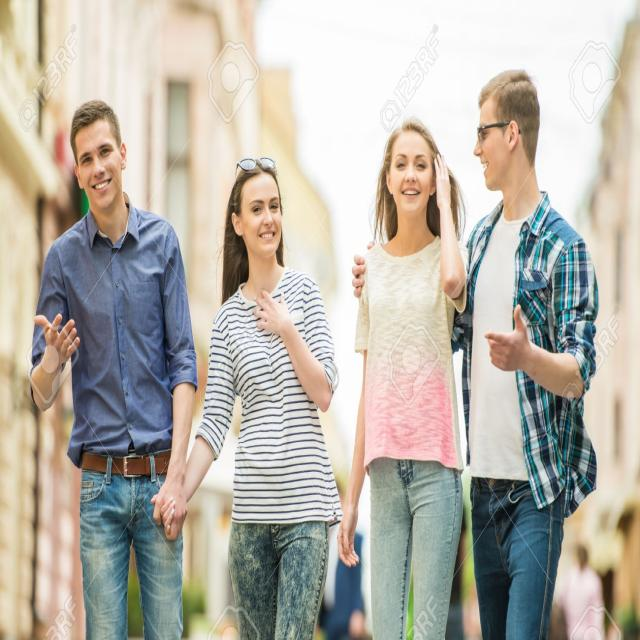body: (351, 66, 601, 640), (145, 149, 342, 639), (23, 94, 199, 639), (332, 113, 471, 639), (316, 524, 382, 639), (550, 540, 615, 638), (205, 499, 241, 640), (444, 511, 478, 640)
